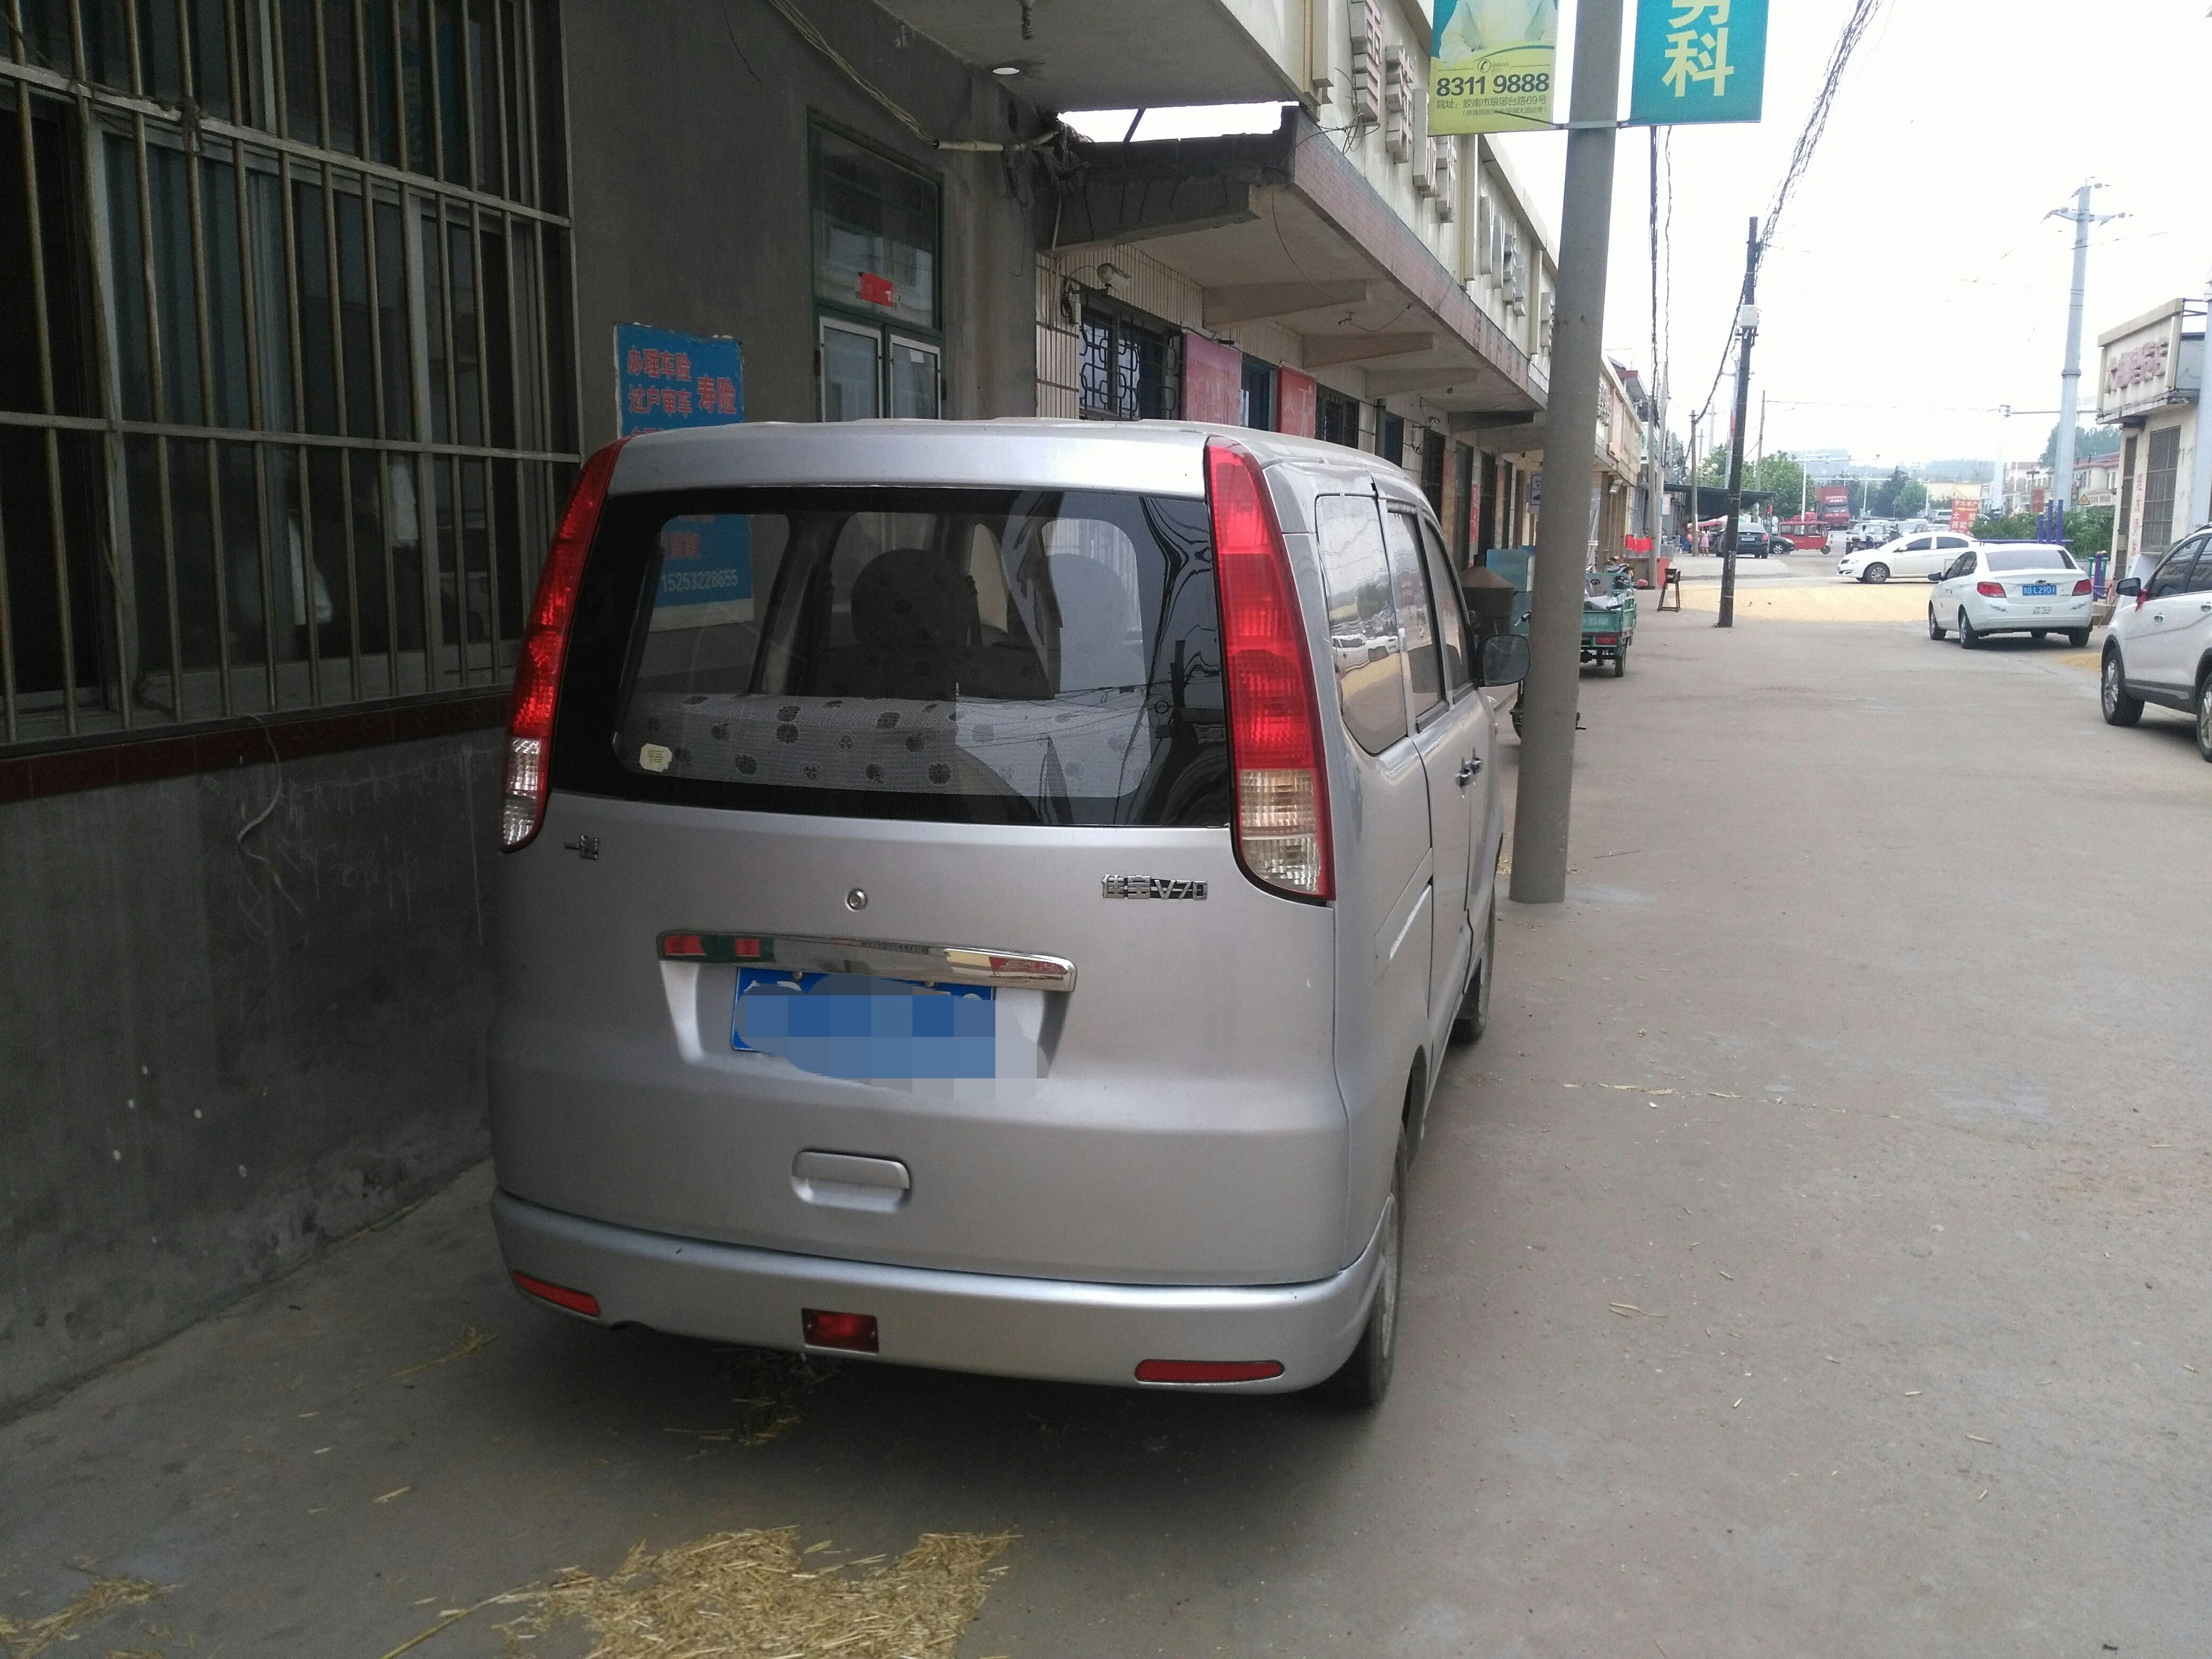family sedan: (1926, 511, 2109, 655), (1843, 521, 1984, 596)
minibus: (446, 376, 1527, 1493)
